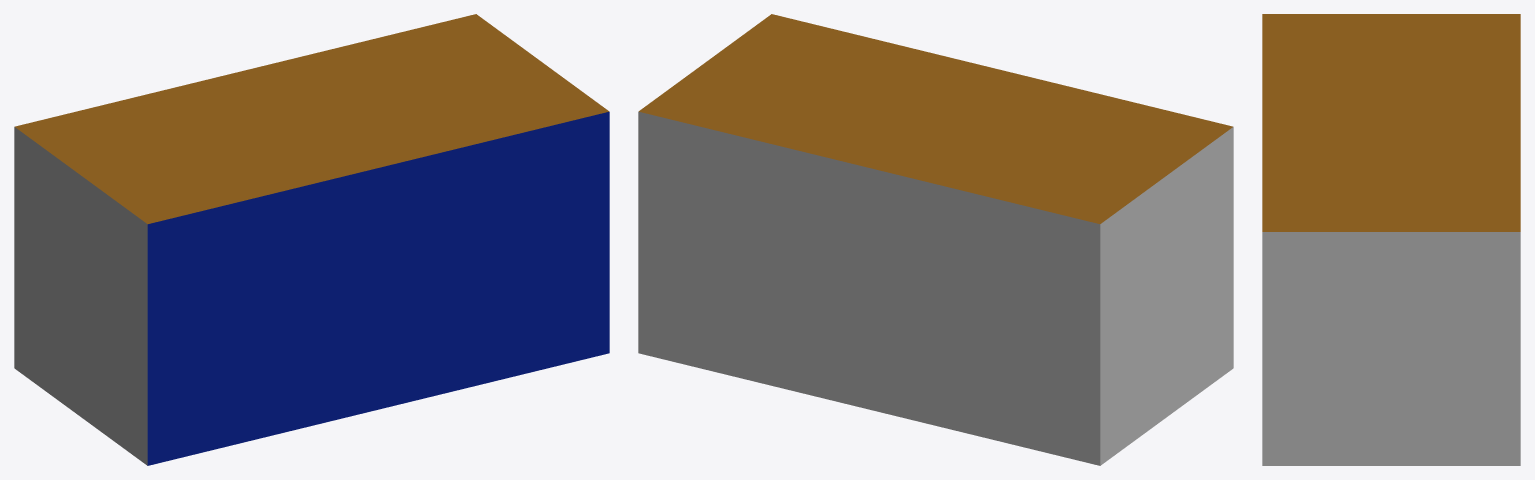
The model's file is case_3.fbx.
3 renders of one model, left to right at view 1: azimuth 30°, elevation 25°; view 2: azimuth 150°, elevation 25°; view 3: azimuth 270°, elevation 25°, orthographic. The views are drawn at different scales.
Parts seen in each view (by area): view 1: case_3; view 2: case_3; view 3: case_3.
Boxes of the visible parts, left/top/right/bottom form: case_3: left=14, top=14, right=609, bottom=465; case_3: left=638, top=14, right=1233, bottom=465; case_3: left=1262, top=14, right=1520, bottom=465.
Bounding box in the file's own units: 1 × 0.5 × 0.5.
